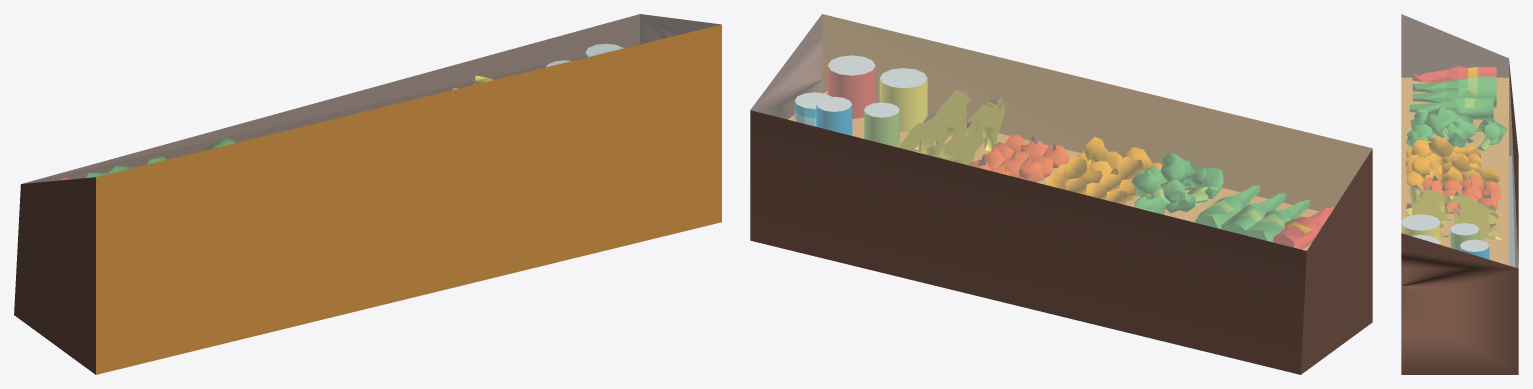
The model's file is ProductShelf 1.fbx.
The picture shows the model from 3 angles, left to right: view 1: azimuth 30°, elevation 25°; view 2: azimuth 150°, elevation 25°; view 3: azimuth 270°, elevation 25°; orthographic projection. The views are drawn at different scales.
Parts seen in each view (by area): view 1: Node.001; view 2: Node.001; view 3: Node.001.
Boxes of the visible parts, x1,y1,x2,y2 form: Node.001: (14, 14, 721, 374); Node.001: (750, 14, 1372, 374); Node.001: (1401, 14, 1518, 374).
Bounding box in the file's own units: 80.28 × 24.24 × 18.18.
